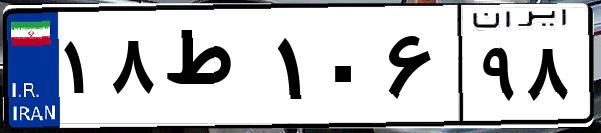0: (330, 28, 385, 110)
1: (270, 28, 330, 110), (57, 26, 110, 100)
6: (385, 28, 445, 110)
8: (525, 38, 570, 115), (110, 28, 158, 98)
9: (475, 38, 525, 113)
ط: (158, 20, 270, 120)
